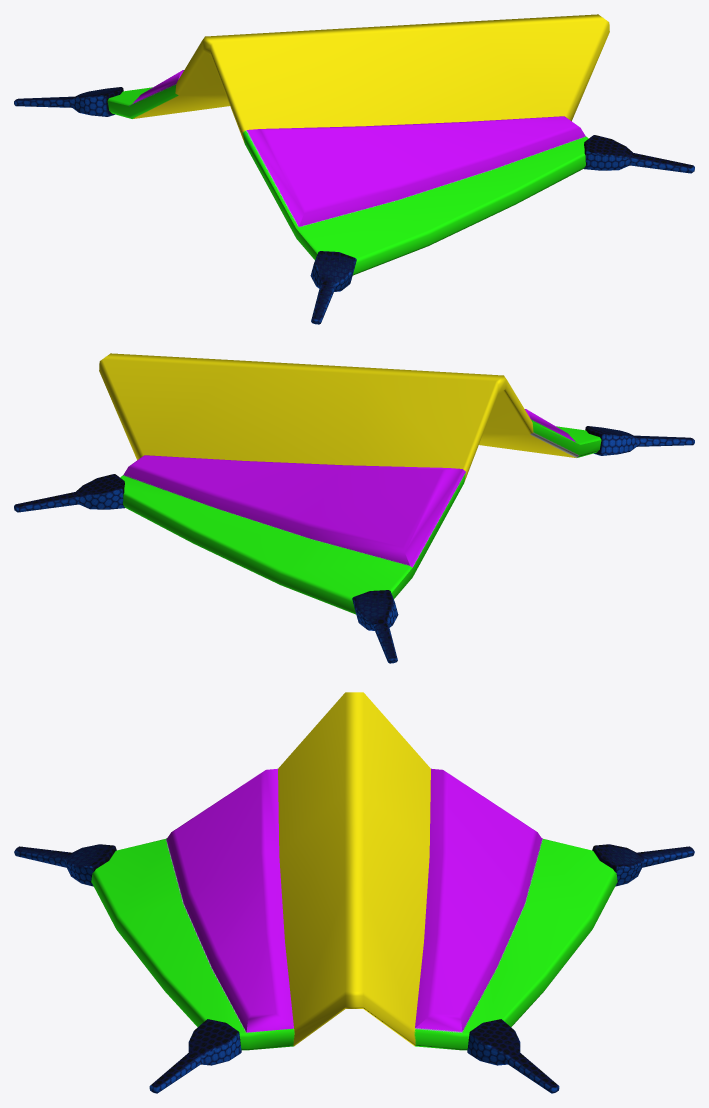
Rendered from SM_Tent.fbx.
3 renders of one model, top to bottom at view 1: azimuth 30°, elevation 25°; view 2: azimuth 150°, elevation 25°; view 3: azimuth 270°, elevation 25°, orthographic. The views are drawn at different scales.
Parts seen in each view (by area): view 1: SM_Tent; view 2: SM_Tent; view 3: SM_Tent.
Boxes of the visible parts, x1,y1,x2,y2 form: SM_Tent: [14, 14, 694, 324]; SM_Tent: [14, 353, 694, 663]; SM_Tent: [14, 692, 694, 1093].
Bounding box in the file's own units: 211 × 250 × 75.23.
